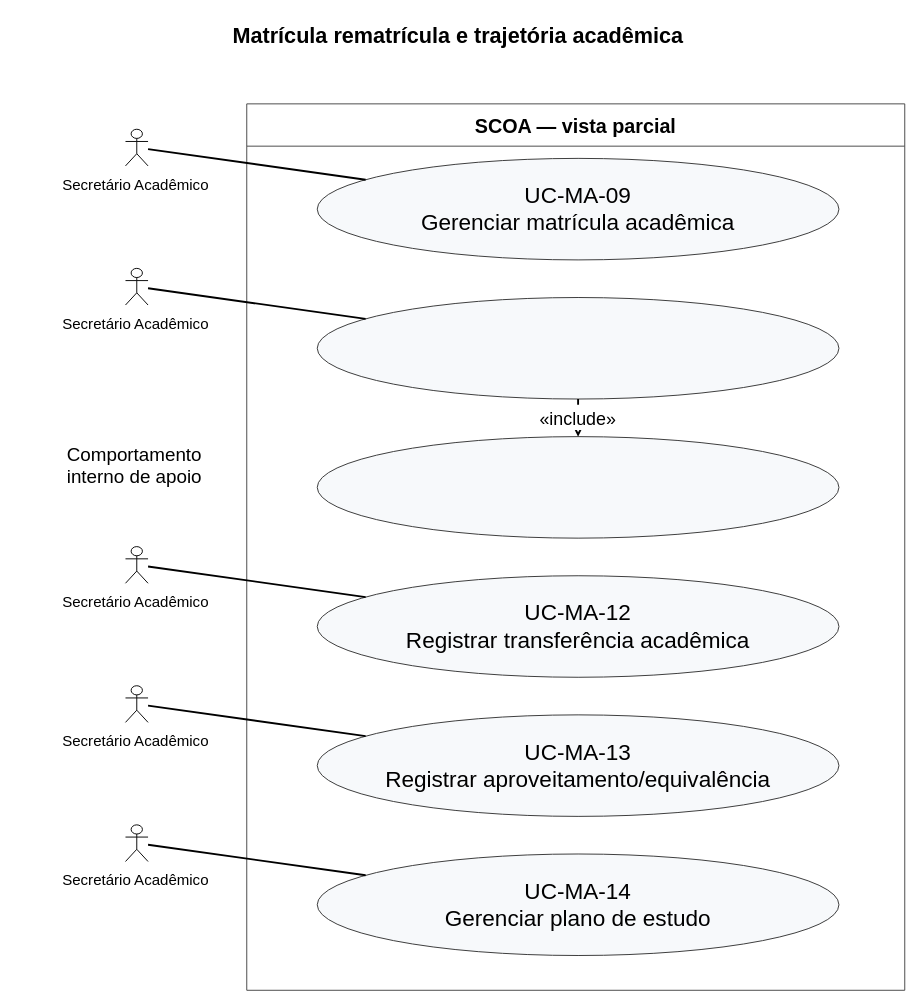
Image size: 921x1007. Some labels were removed from this diagram. The shapes that lost their labels are listed below. From the top down, each one's centre as x and y in pixels, then its label:
At point 577,348: "UC-MA-11 Executar rematrícula automática".
At point 577,487: "UC-MA-30 Validar elegibilidade para inscrição".
